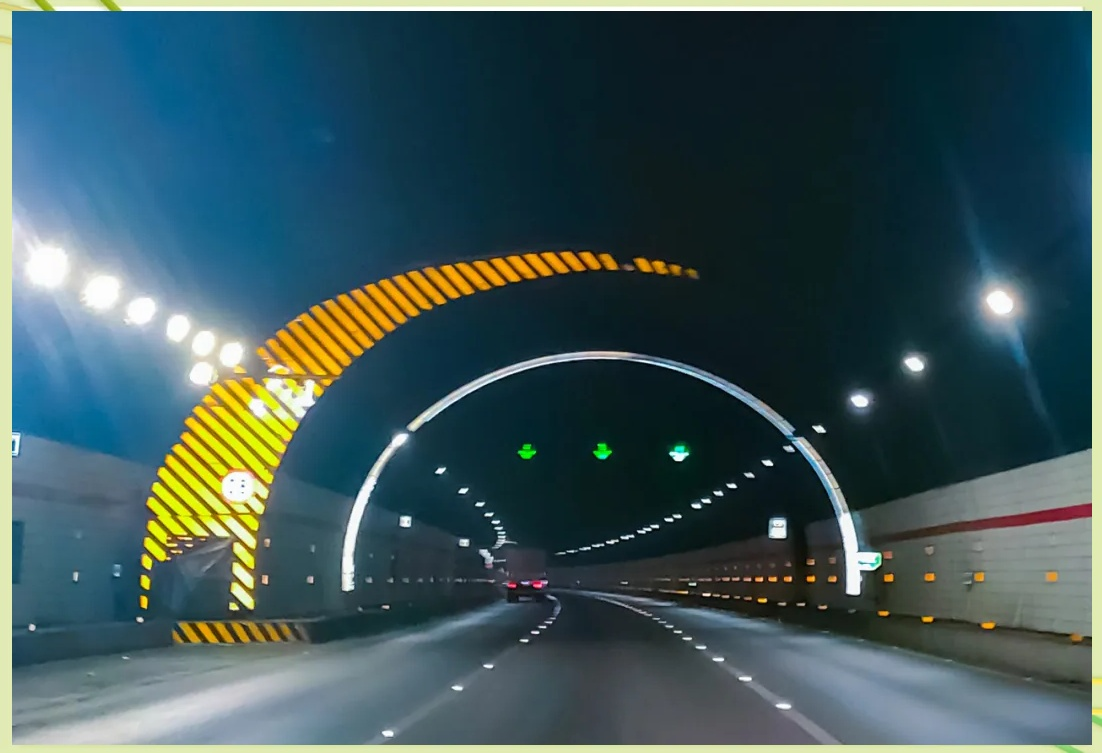lane: (581, 593, 842, 744), (377, 603, 571, 738)
